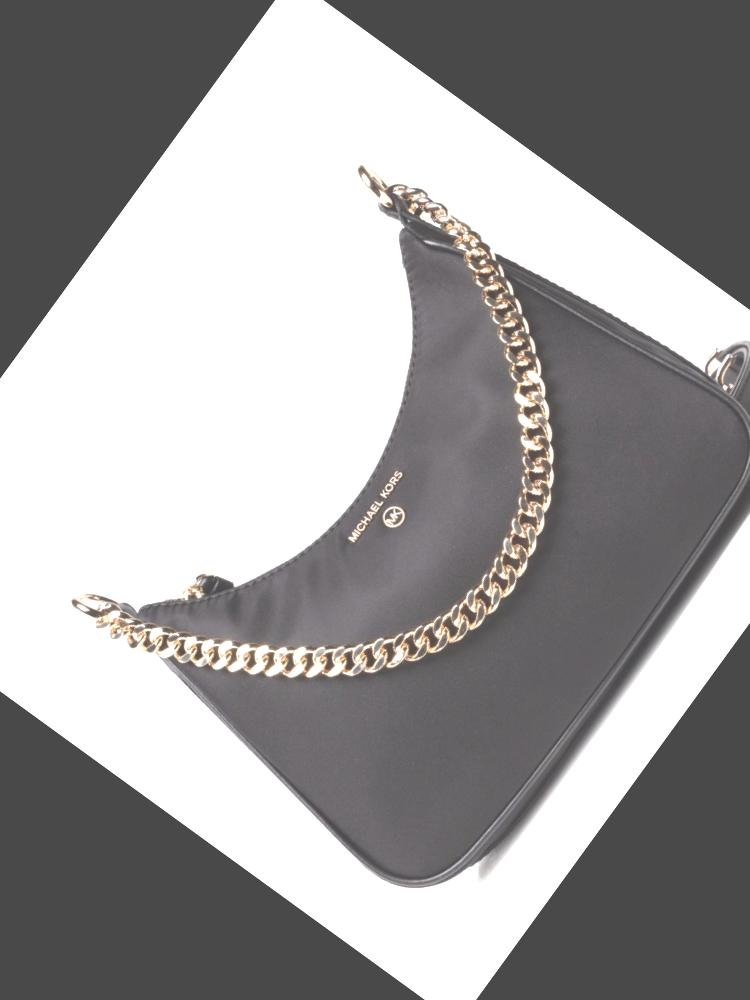MICHAEL-KORS: (347, 468, 406, 542)
